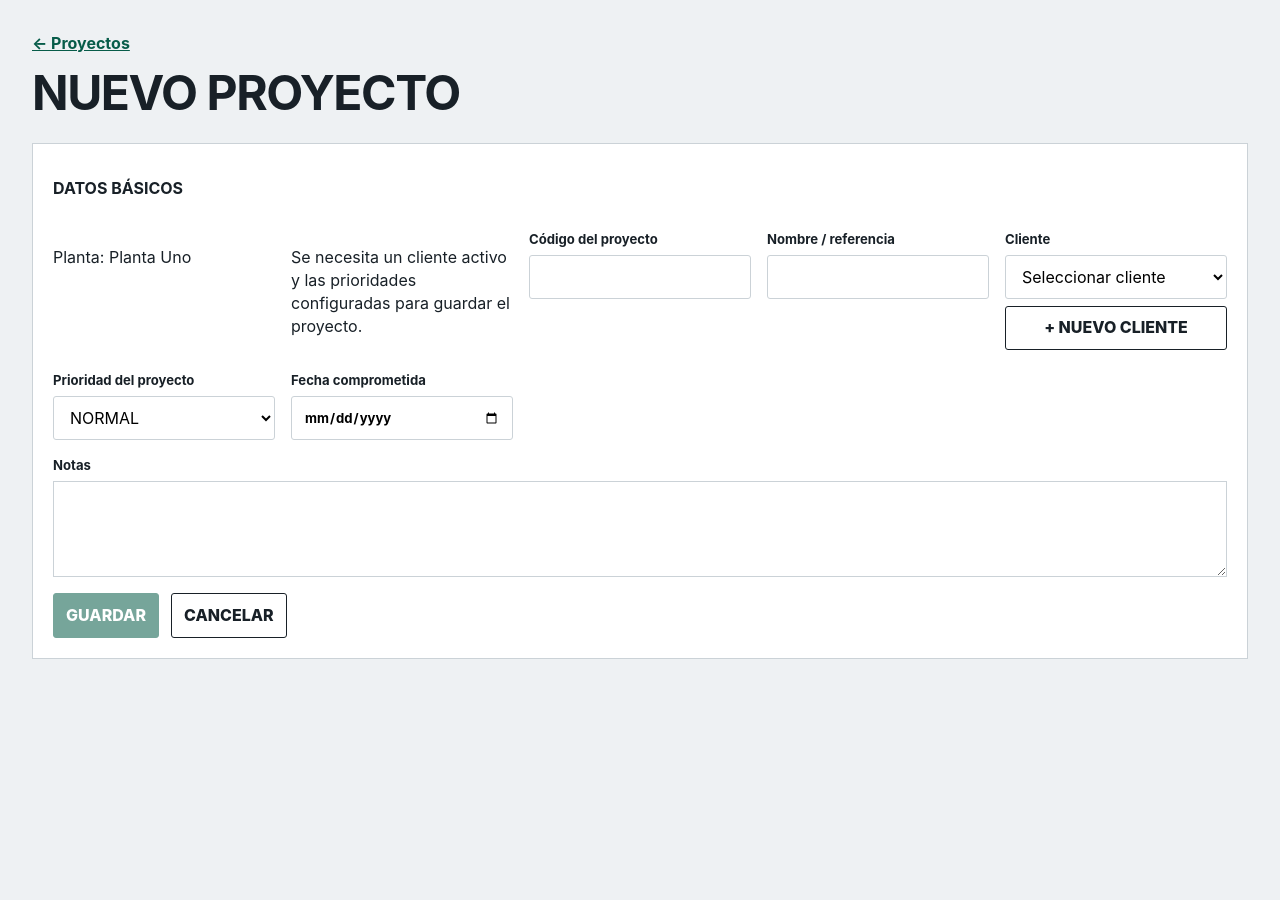
Test: error de validación deja corregir sin cerrar ni perder los campos
The image size is (1280, 900).
Click the button "+ NUEVO CLIENTE": (1116, 328) x1=1005 y1=306 x2=1227 y2=350
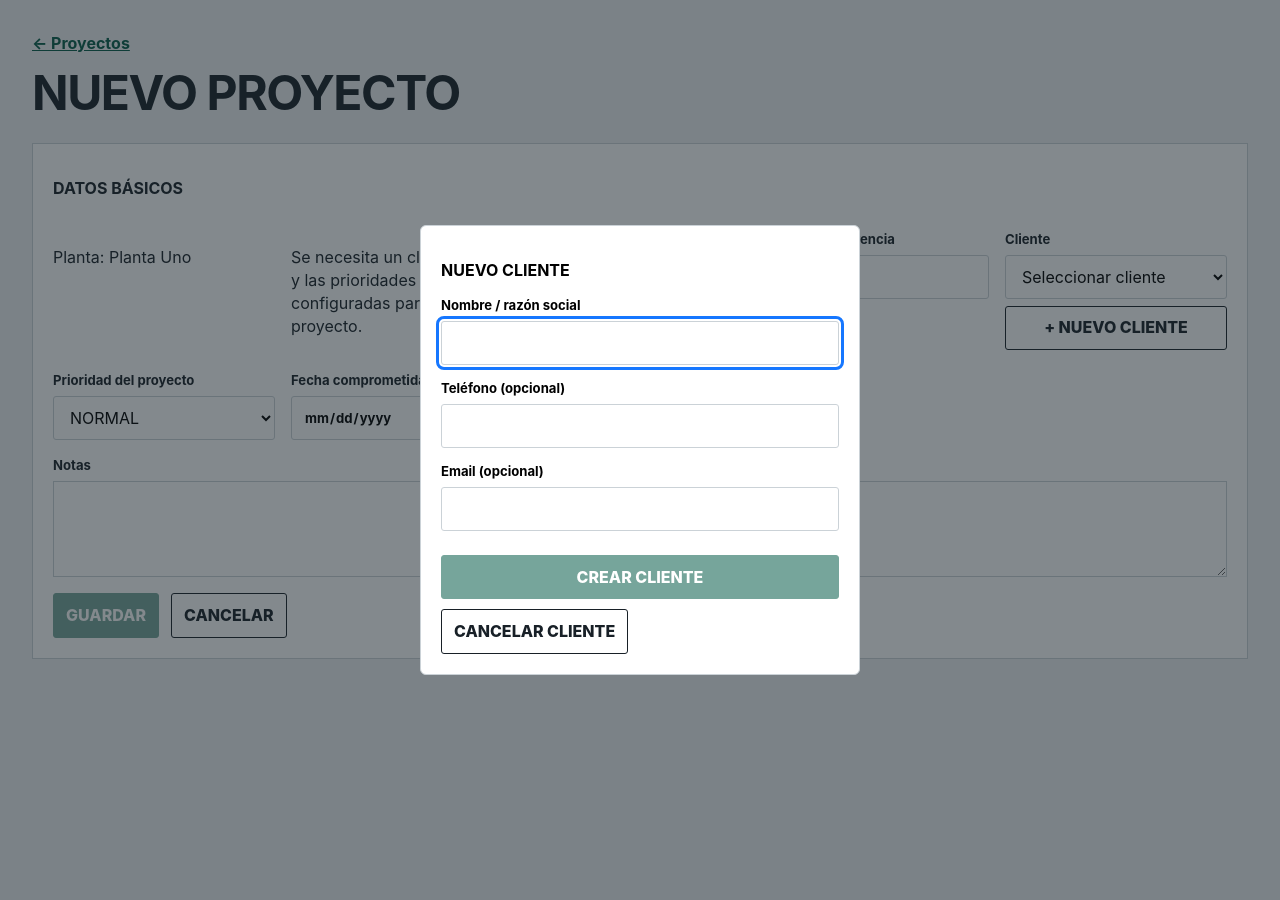
In the field labelled "Nombre / razón social": (640, 343) x1=441 y1=321 x2=839 y2=365, type "Nico del Castillo"
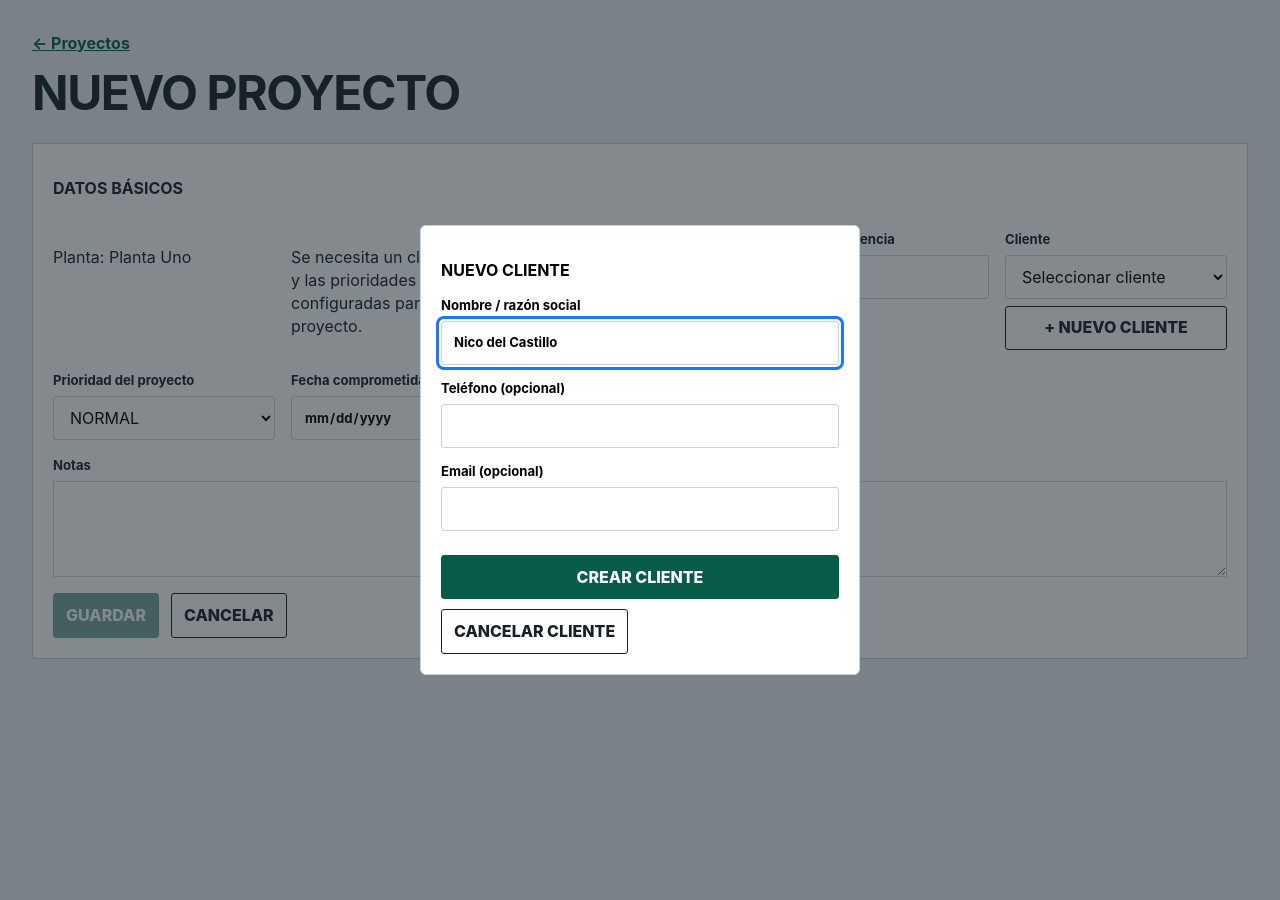
Click the button "CREAR CLIENTE": (640, 577) x1=441 y1=555 x2=839 y2=599
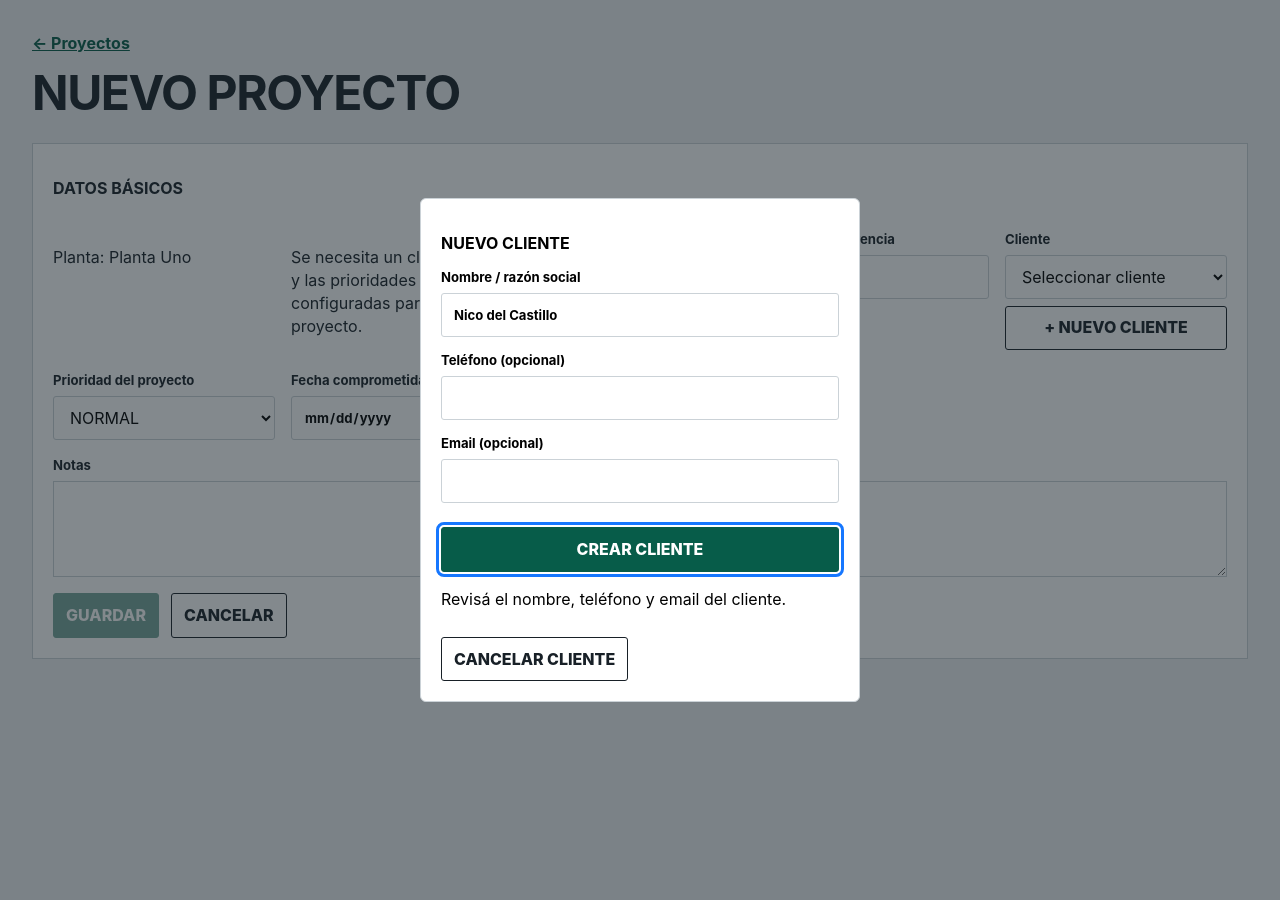
Now the field labelled "Nombre / razón social" is enabled, box x1=441 y1=293 x2=839 y2=337
Now the message shows "Revisá el nombre", box x1=441 y1=589 x2=786 y2=609
